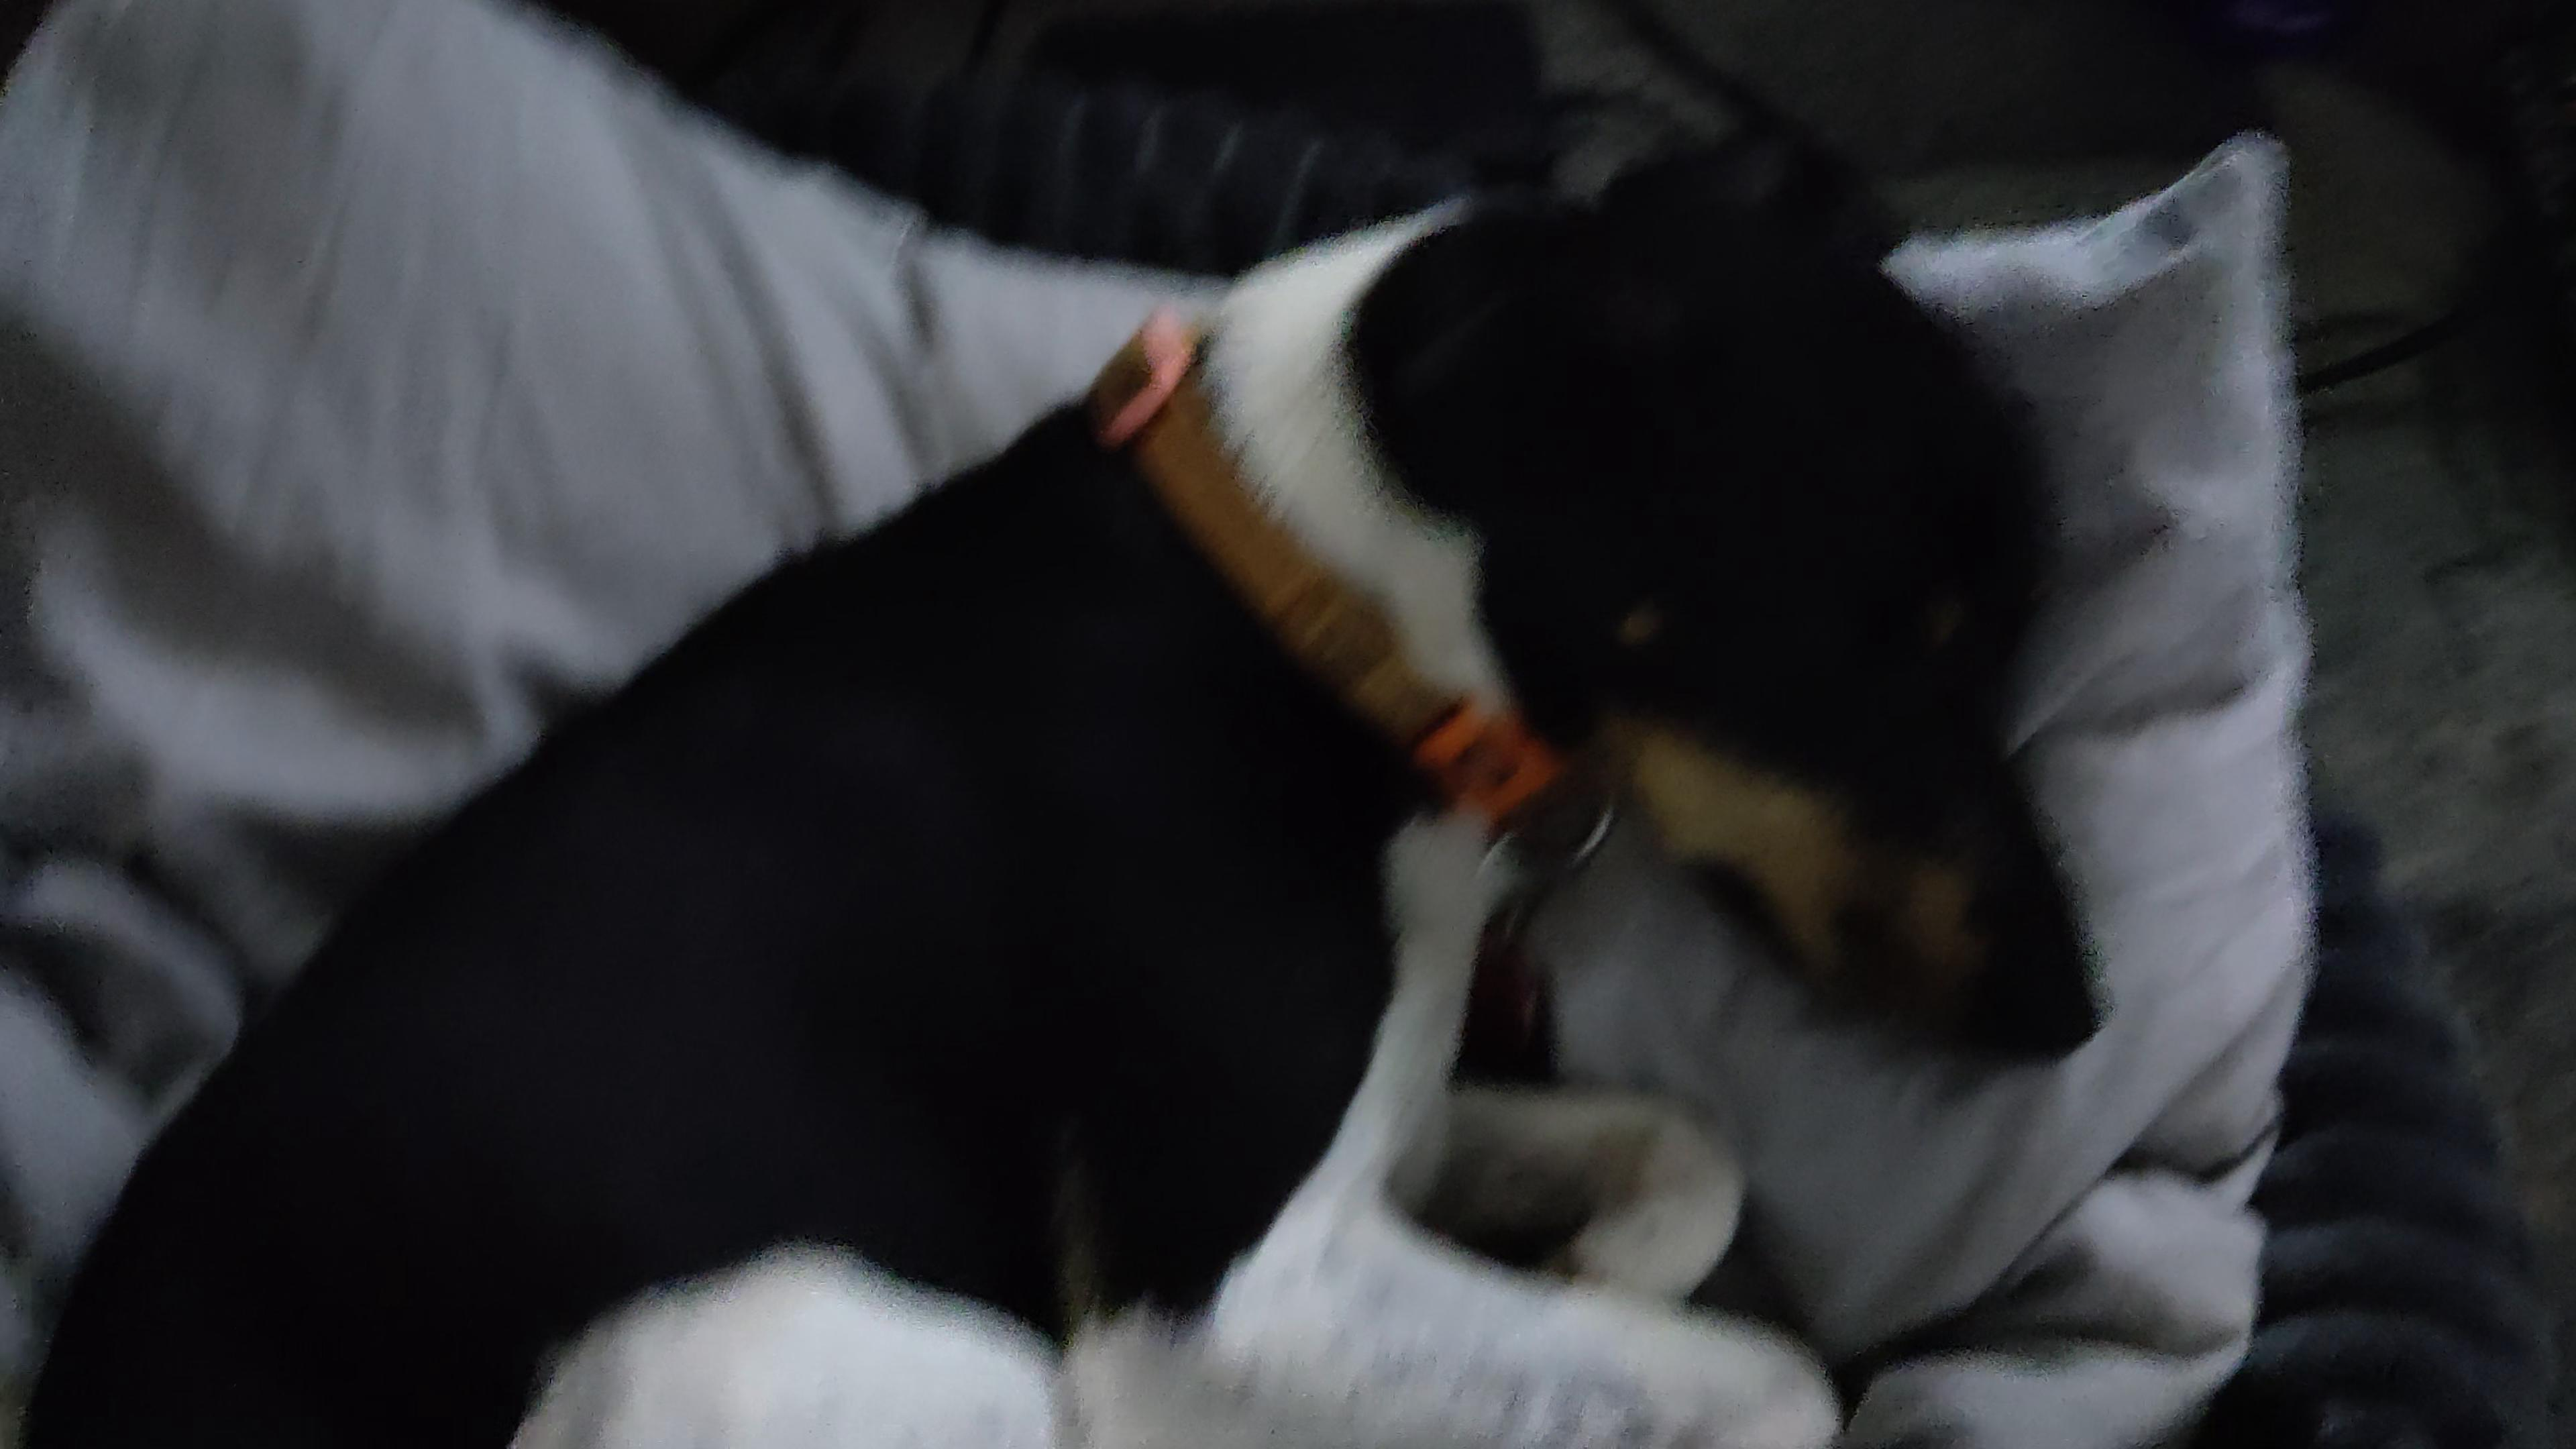Dog: (12, 101, 2118, 1449)
